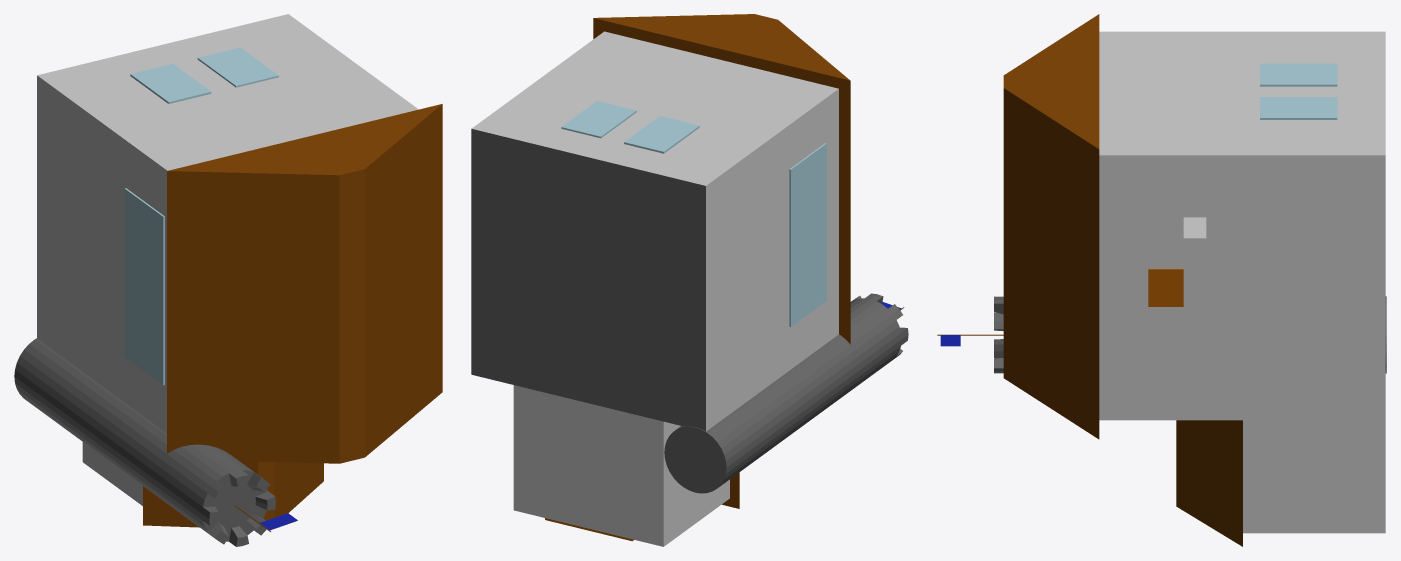
File: ТХ_3Origin.fbx
3 views of the same model, side by side, from view 1: azimuth 30°, elevation 25°; view 2: azimuth 150°, elevation 25°; view 3: azimuth 270°, elevation 25° (orthographic). The views are drawn at different scales.
Visible parts, largest first — view 1: ТХ_3; view 2: ТХ_3; view 3: ТХ_3.
Part boxes in pixels (box(x1,y1,x2,y2)): ТХ_3: box(14, 14, 442, 546); ТХ_3: box(471, 14, 908, 546); ТХ_3: box(937, 14, 1386, 546).
Bounding box in the file's own units: 2.3 × 2.9 × 2.81.
